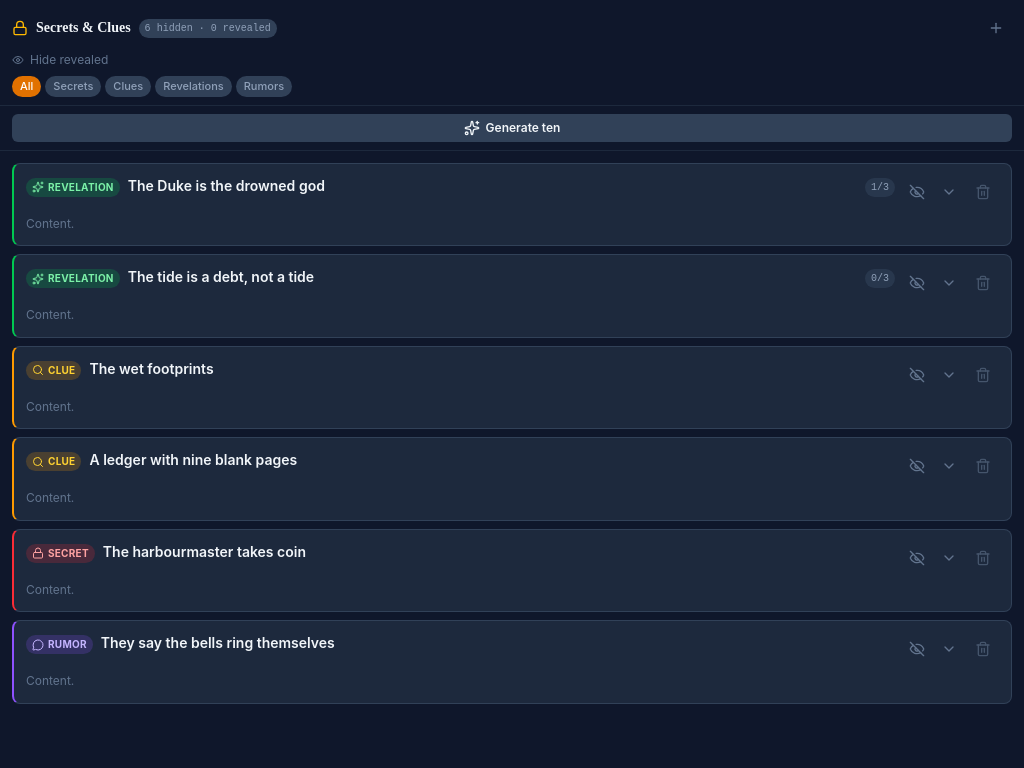
Scenario: SecretsTracker — the "supports revelation" picker › appears on an expanded clue card
The width and height of the screenshot is (1024, 768).
Expected: the dropdown labelled "supports revelation" is not shown
Click the button "A ledger with nine blank pages".
click(193, 460)  # box x1=90 y1=450 x2=895 y2=470
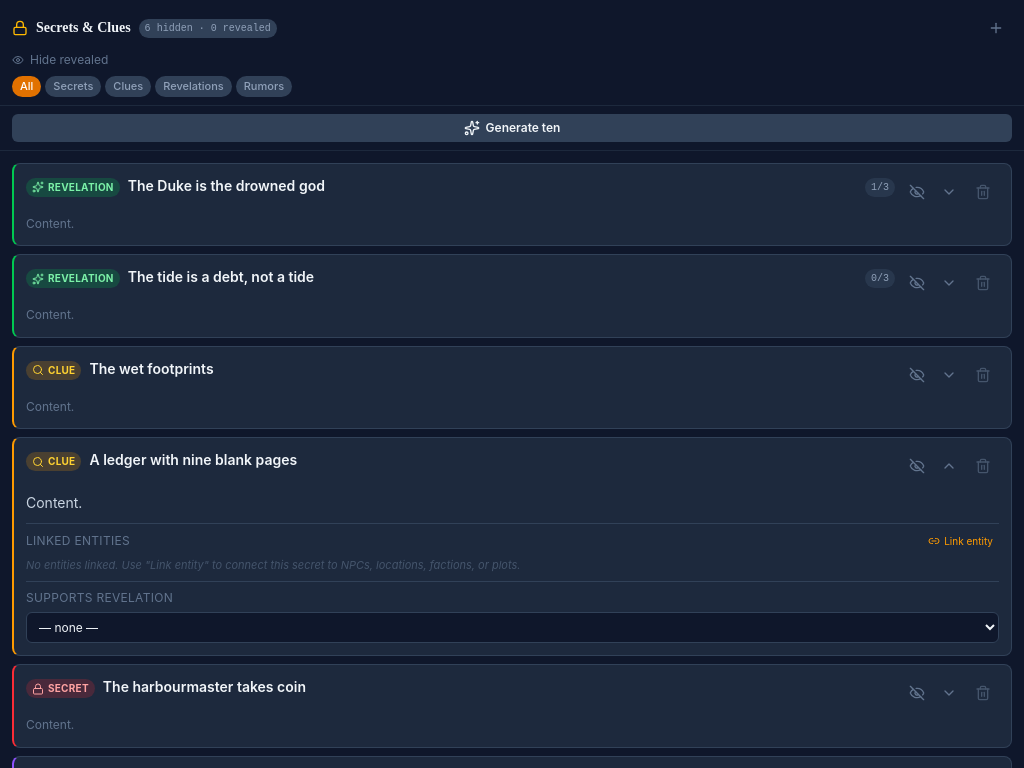
Expected: the dropdown named "supports revelation" is shown, x1=26 y1=612 x2=999 y2=643
